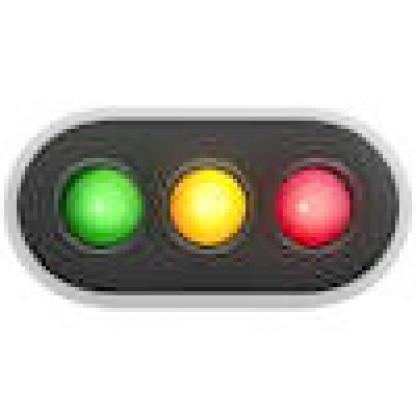traffic-light: (50, 146, 358, 262)
